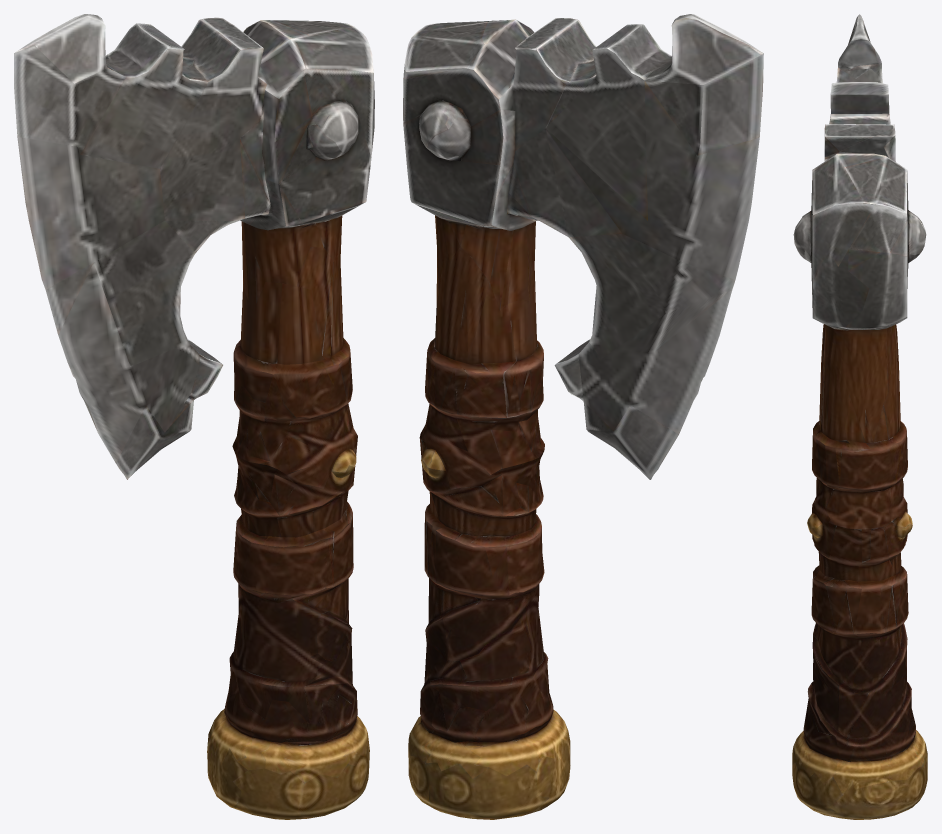
Rendered from raider_axe.glb.
3 views of the same model, side by side, from view 1: azimuth 30°, elevation 25°; view 2: azimuth 150°, elevation 25°; view 3: azimuth 270°, elevation 25° (orthographic). The views are drawn at different scales.
Size of the model in its own units: 0.5433 by 1.24 by 0.2207.
1 material, 1 textured.
